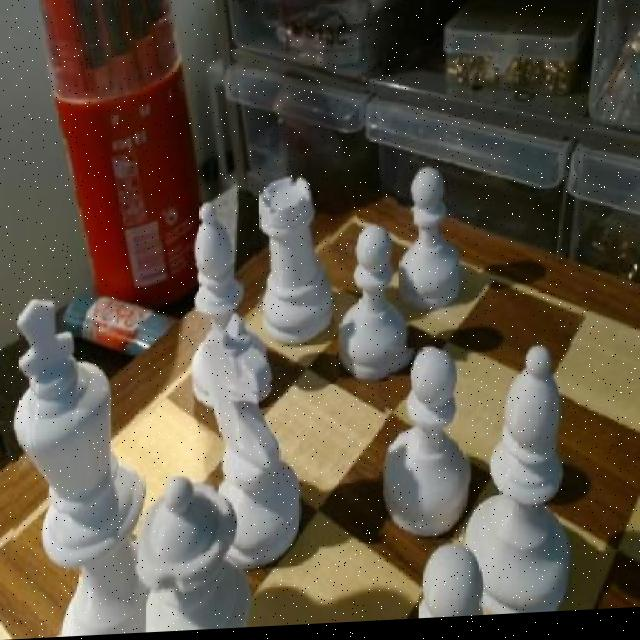black-rook: (464, 349, 574, 621), (188, 202, 242, 403)
white-bishop: (12, 286, 145, 639)
white-king: (198, 317, 302, 574)
white-knight: (380, 350, 472, 548), (338, 212, 412, 391), (397, 169, 461, 318)
white-pawn: (130, 474, 258, 634)
white-queen: (255, 175, 332, 350)
